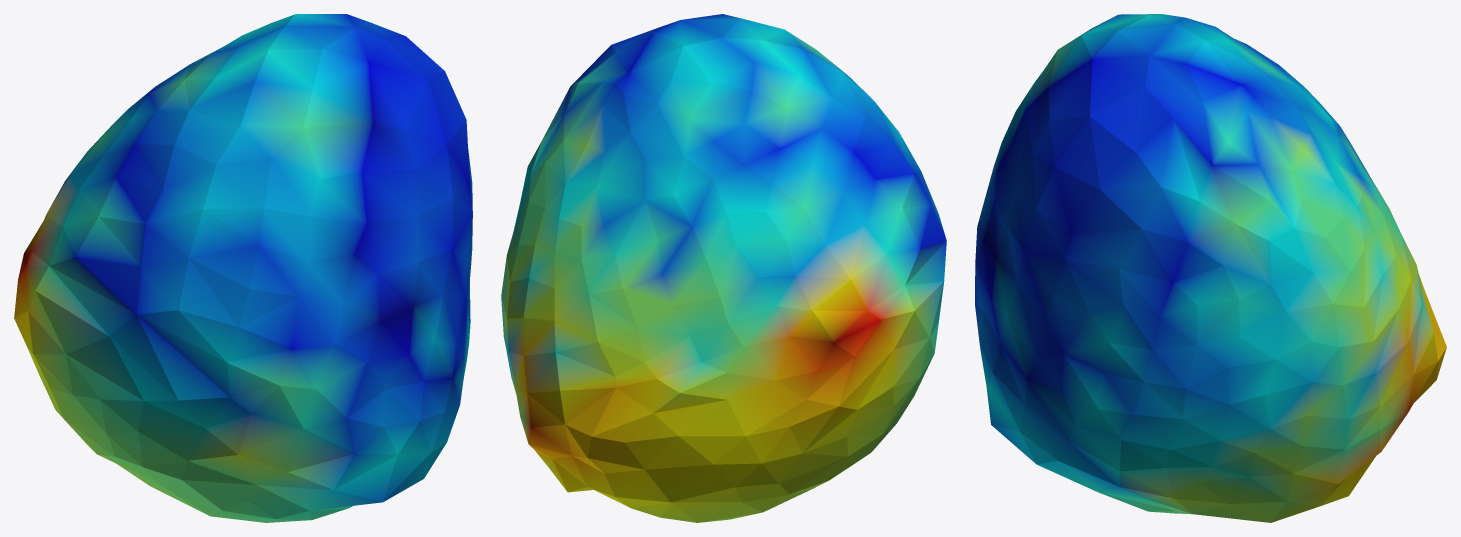
File: heartwithColor112.obj
3 renders of one model, left to right at view 1: azimuth 30°, elevation 25°; view 2: azimuth 150°, elevation 25°; view 3: azimuth 270°, elevation 25°, orthographic. The views are drawn at different scales.
Size of the model in its own units: 71.7 by 81.16 by 72.94.
